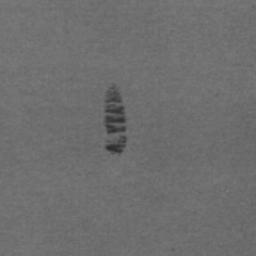Secondary rust skin: (104, 83, 126, 154)
